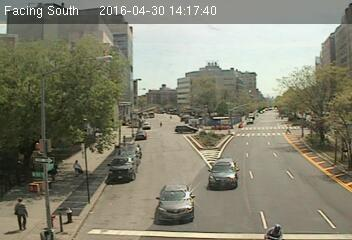neg: (230, 38, 259, 76), (201, 91, 221, 118), (105, 115, 124, 141), (89, 49, 107, 72), (167, 188, 184, 212), (31, 150, 47, 171), (109, 157, 125, 178), (64, 205, 79, 225), (301, 144, 314, 163), (218, 159, 230, 175), (136, 66, 147, 81), (248, 118, 256, 128), (159, 122, 165, 130)
pos: (3, 193, 32, 232), (72, 161, 86, 178), (283, 124, 292, 137)
